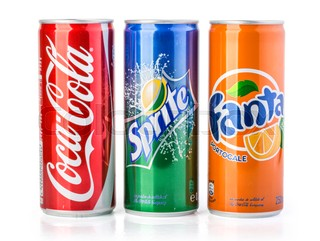fanta: (210, 22, 285, 217)
